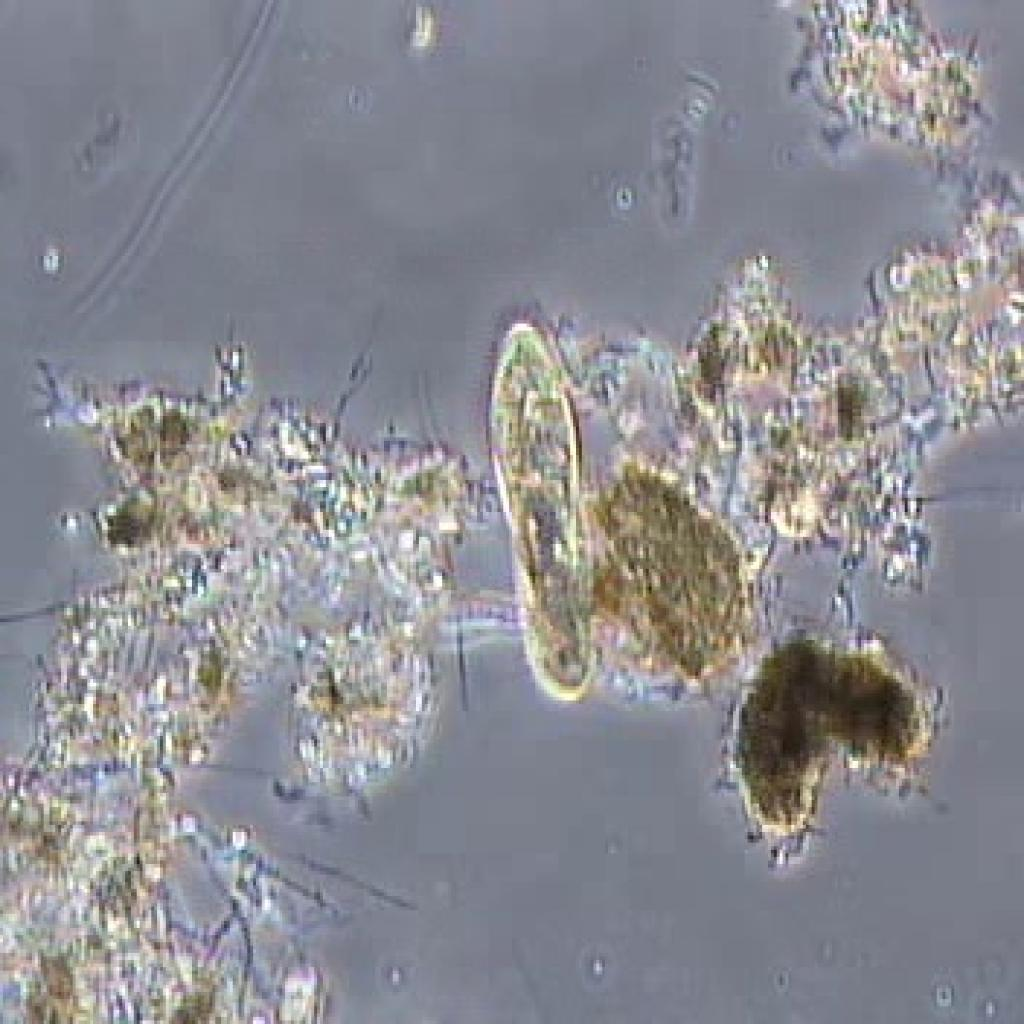Paramecium: (452, 308, 627, 727)
